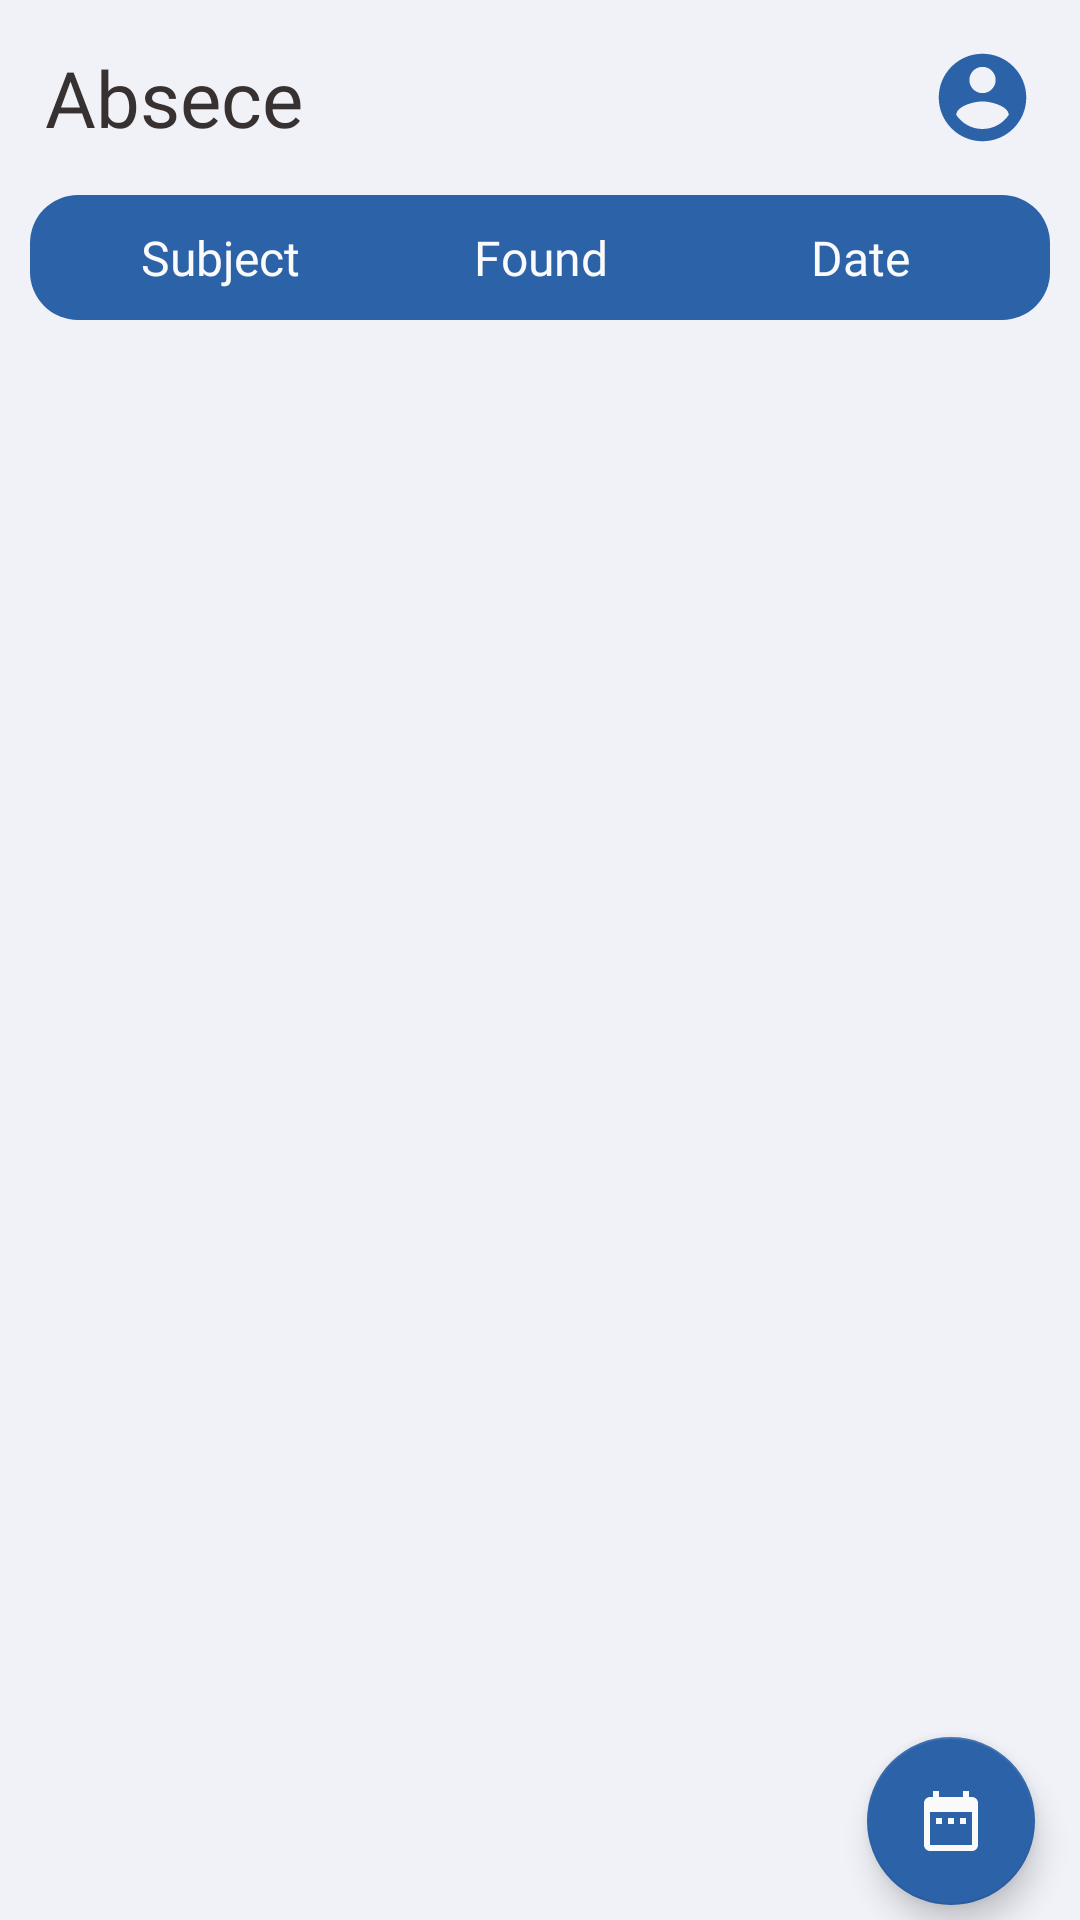

Where icons sit on this 1080w x 1920h app screen, as rect(x1, y1, x2, y2):
account focusedd: rect(938, 53, 1027, 142)
date: rect(867, 1737, 1035, 1905)
